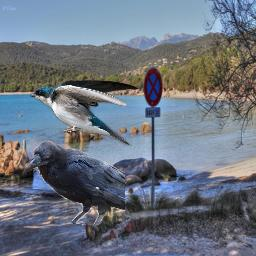Crow: (22, 139, 125, 225)
Swallow: (29, 78, 140, 146)
